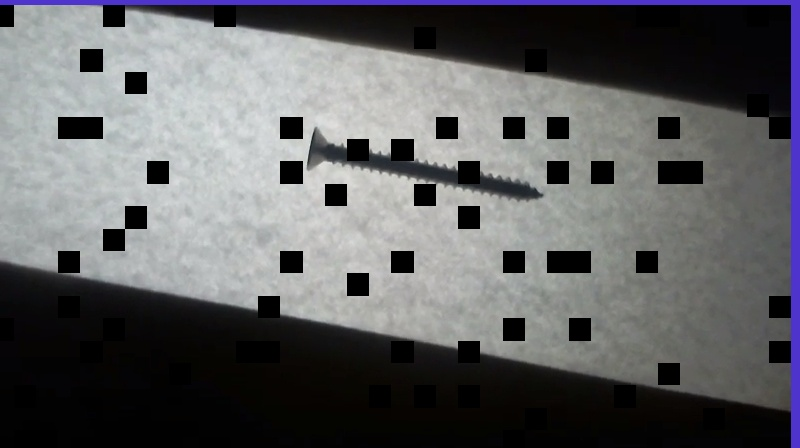S002: (302, 124, 546, 203)
